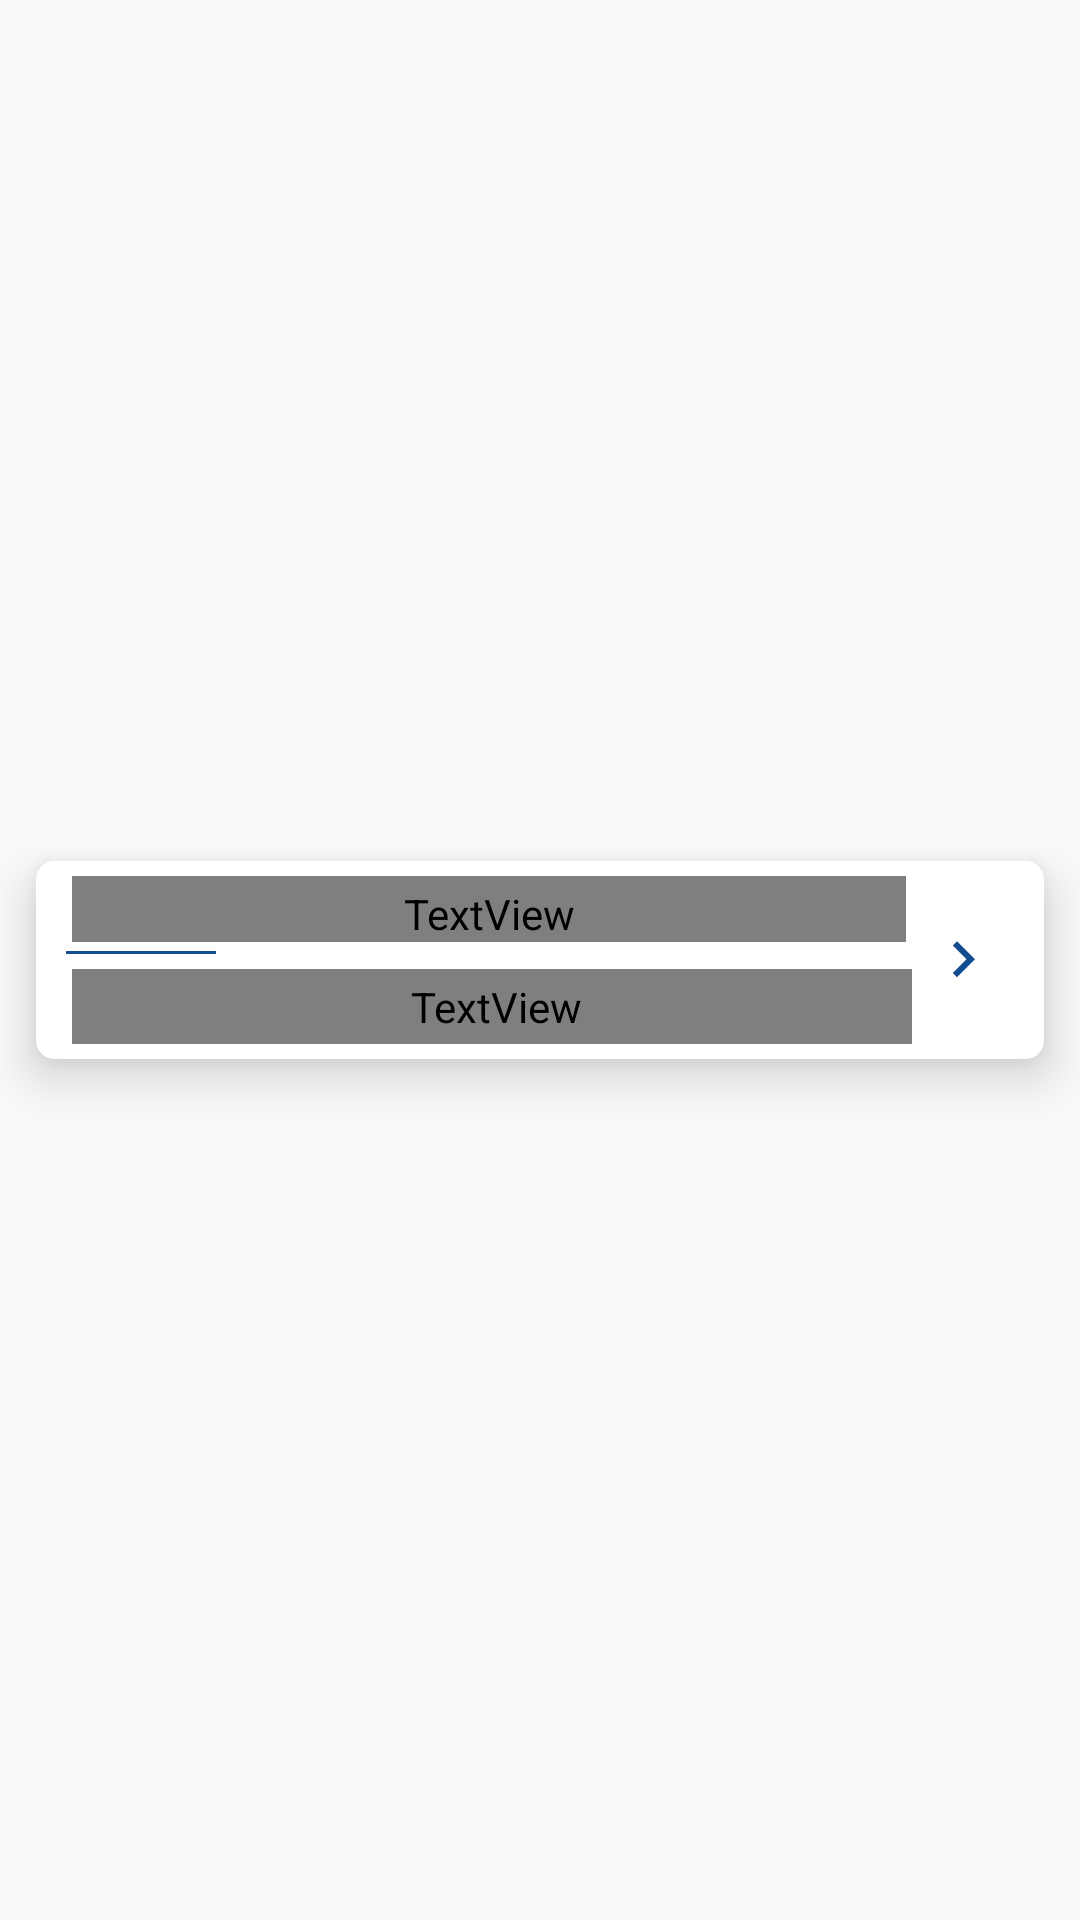

Screen size 1080w x 1920h. Icon name, then its center in pixels as point (x, y):
keyboard arrow: point (964, 959)
